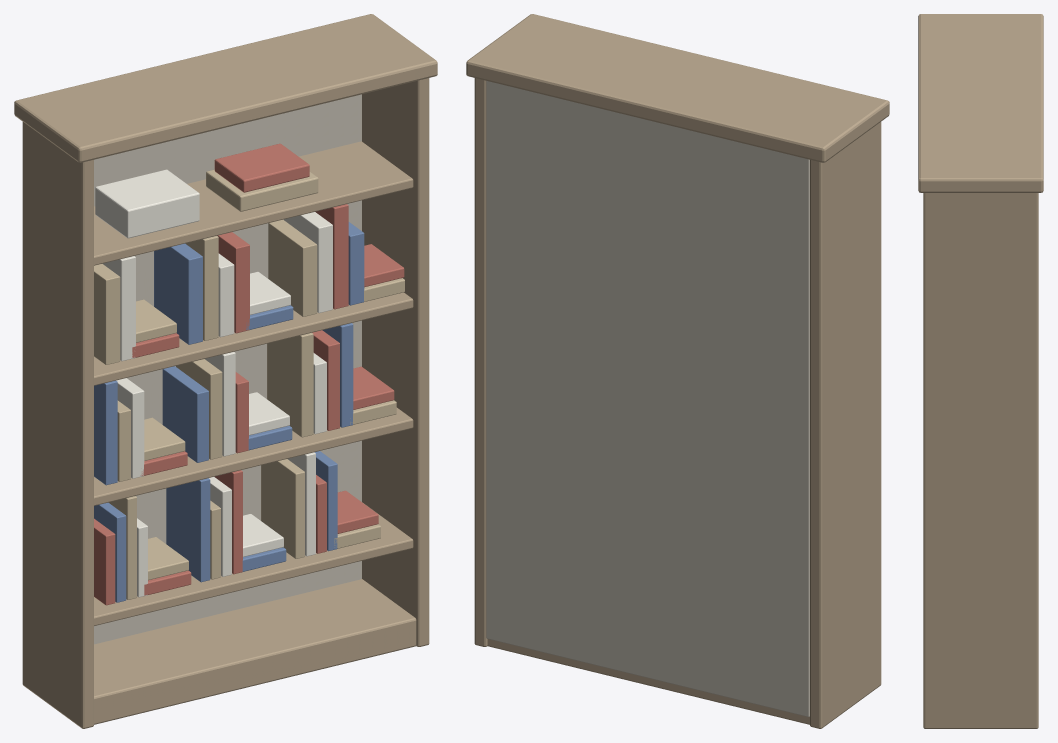
File: bookshelf.glb
3 views of the same model, side by side, from view 1: azimuth 30°, elevation 25°; view 2: azimuth 150°, elevation 25°; view 3: azimuth 270°, elevation 25° (orthographic). The views are drawn at different scales.
Visible parts, largest first — view 1: furn_bookshelf; view 2: furn_bookshelf; view 3: furn_bookshelf.
Boxes of the visible parts, <box> form: furn_bookshelf: <box>14,14,437,728</box>; furn_bookshelf: <box>466,14,889,728</box>; furn_bookshelf: <box>918,14,1043,728</box>.
Bounding box in the file's own units: 1.19 × 1.85 × 0.38.
